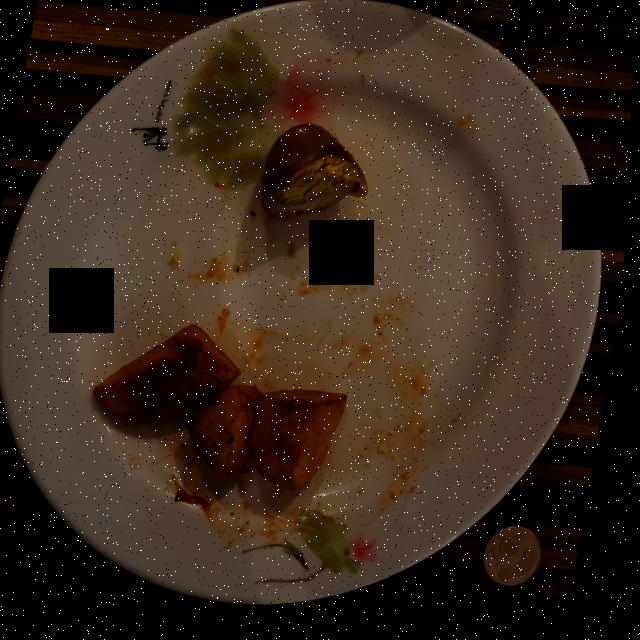coin: (489, 534, 549, 594)
fried potato: (98, 328, 351, 495)
soy egg: (263, 128, 370, 224)
